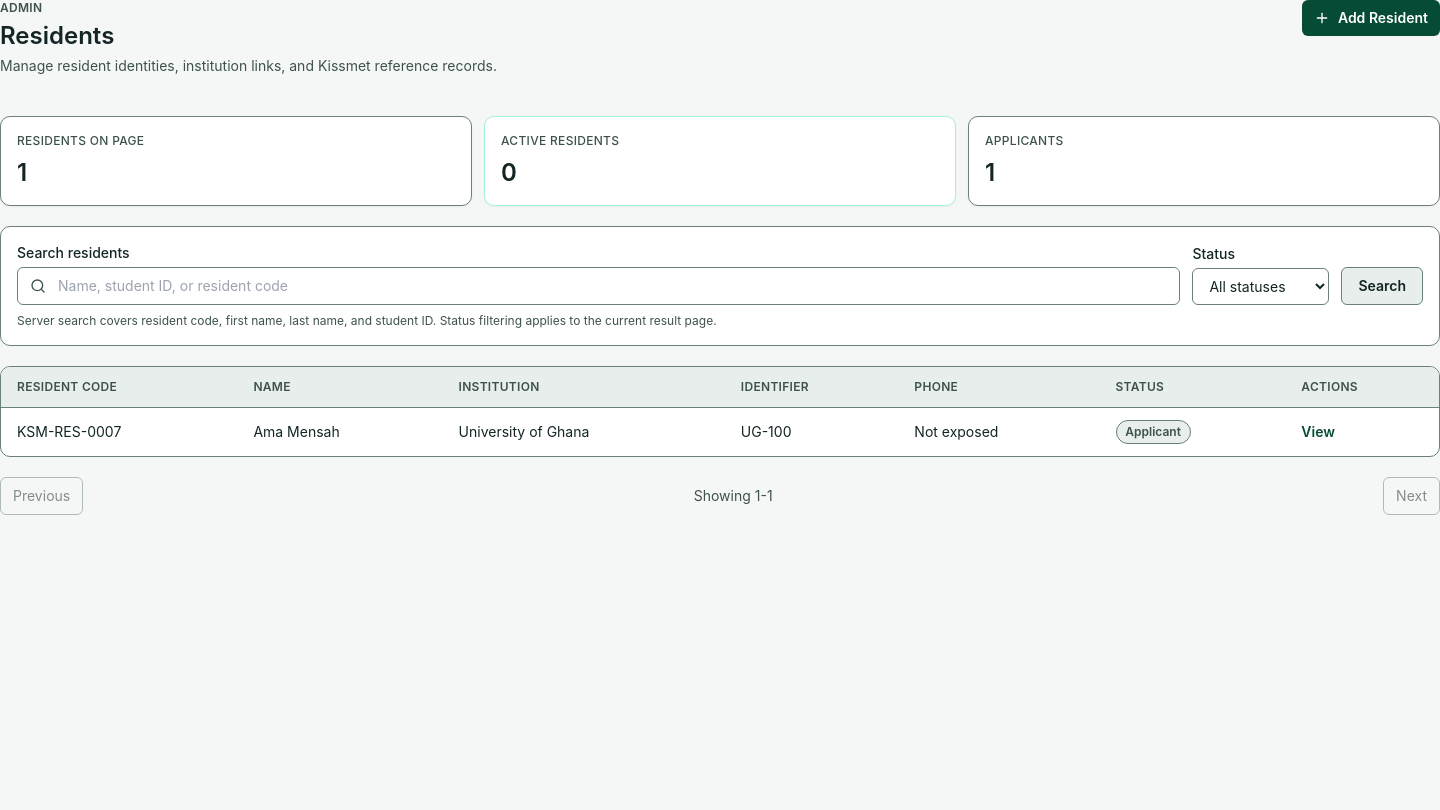
ResidentsPage › gender correction › refuses to submit without a reason or with the already-recorded value
Click the button "View" at x=1318, y=432, box [1301,422,1335,442]
(page scrolled)
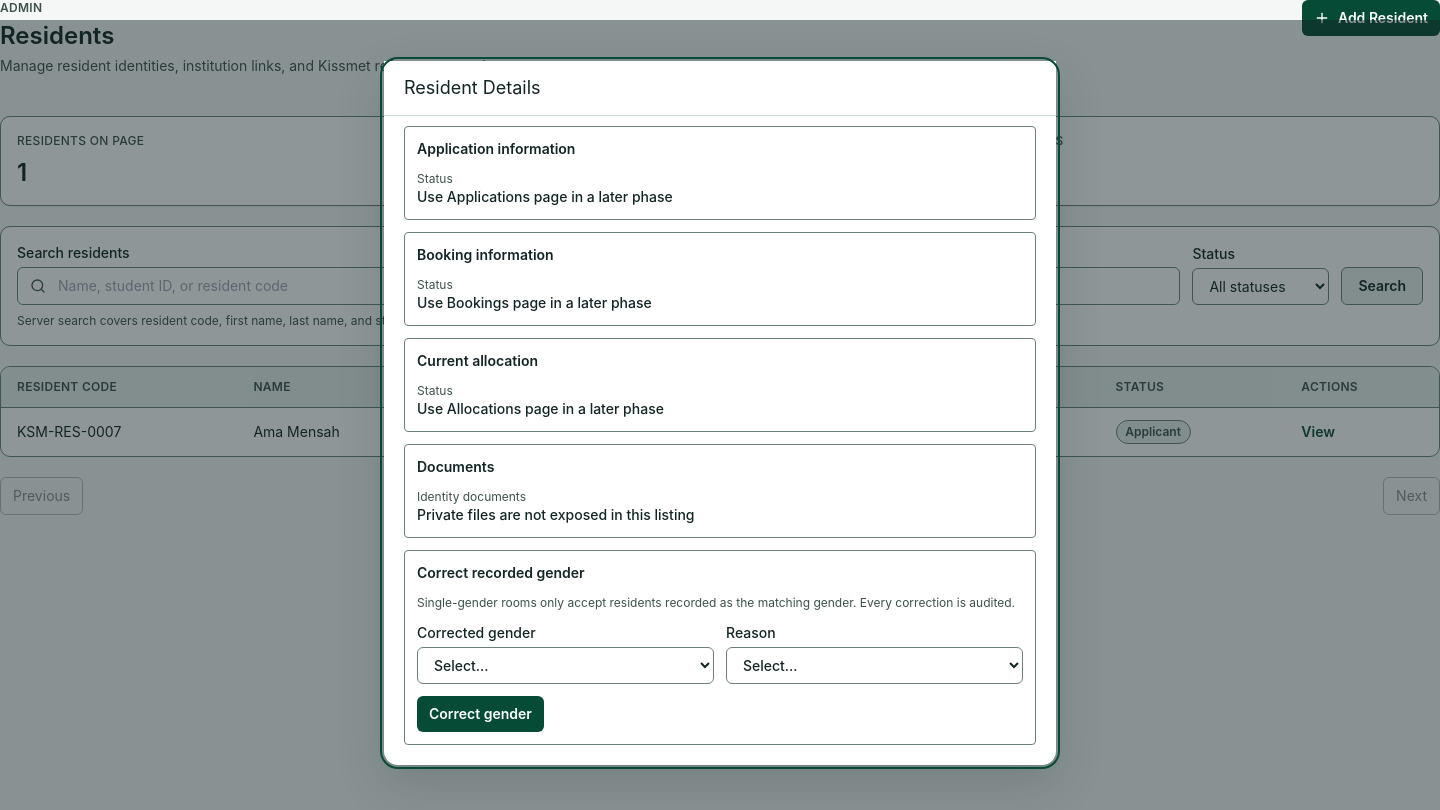
expect the form named "correct gender" is shown: met, box [404,550,1036,745]
Click the button "Correct gender" at x=480, y=714, box [417,696,544,732]
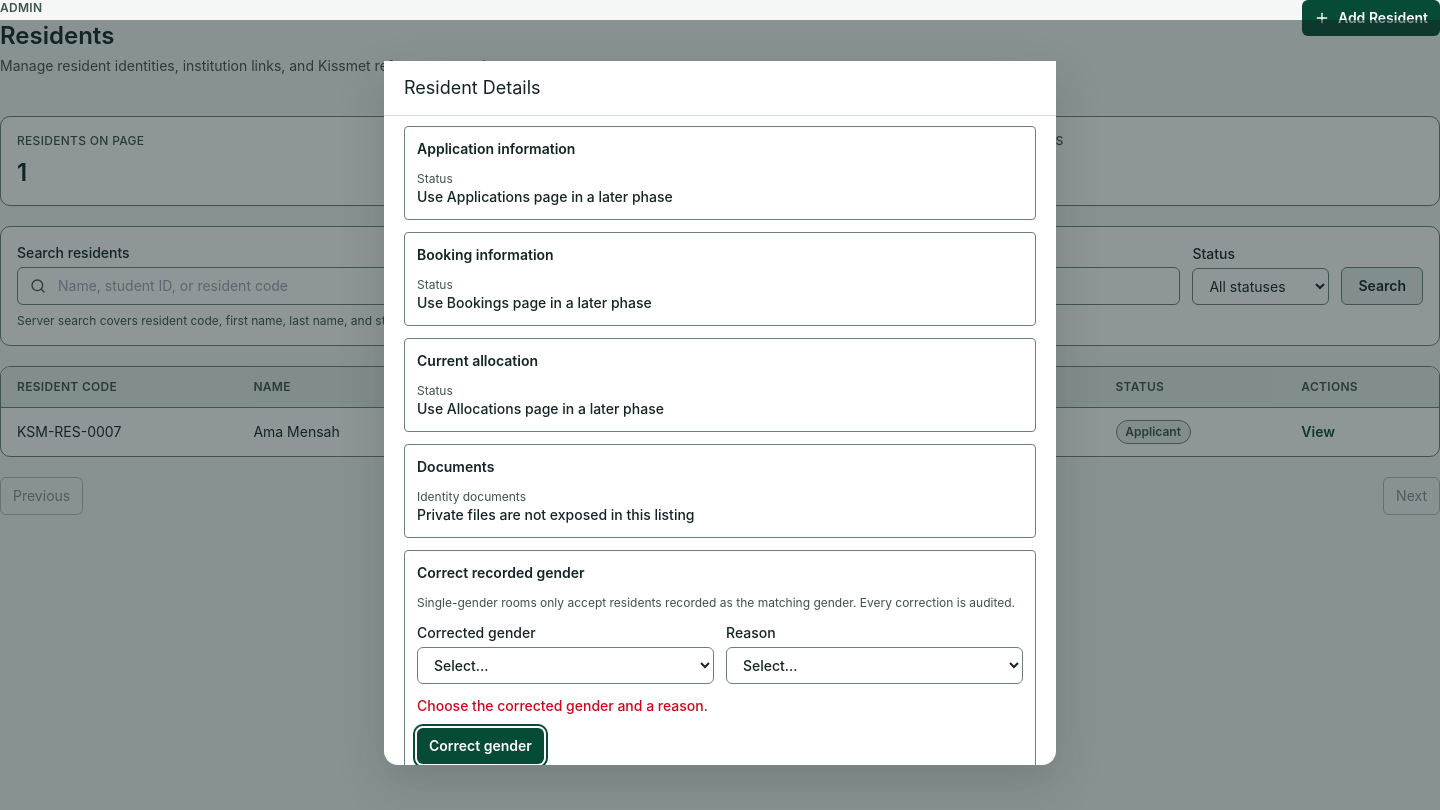
expect the text "Choose the corrected gender and a reason." is shown: met, box [417,697,708,714]
Select "Female" in the dropdown labelled "Corrected gender" at x=566, y=666, box [417,647,714,684]
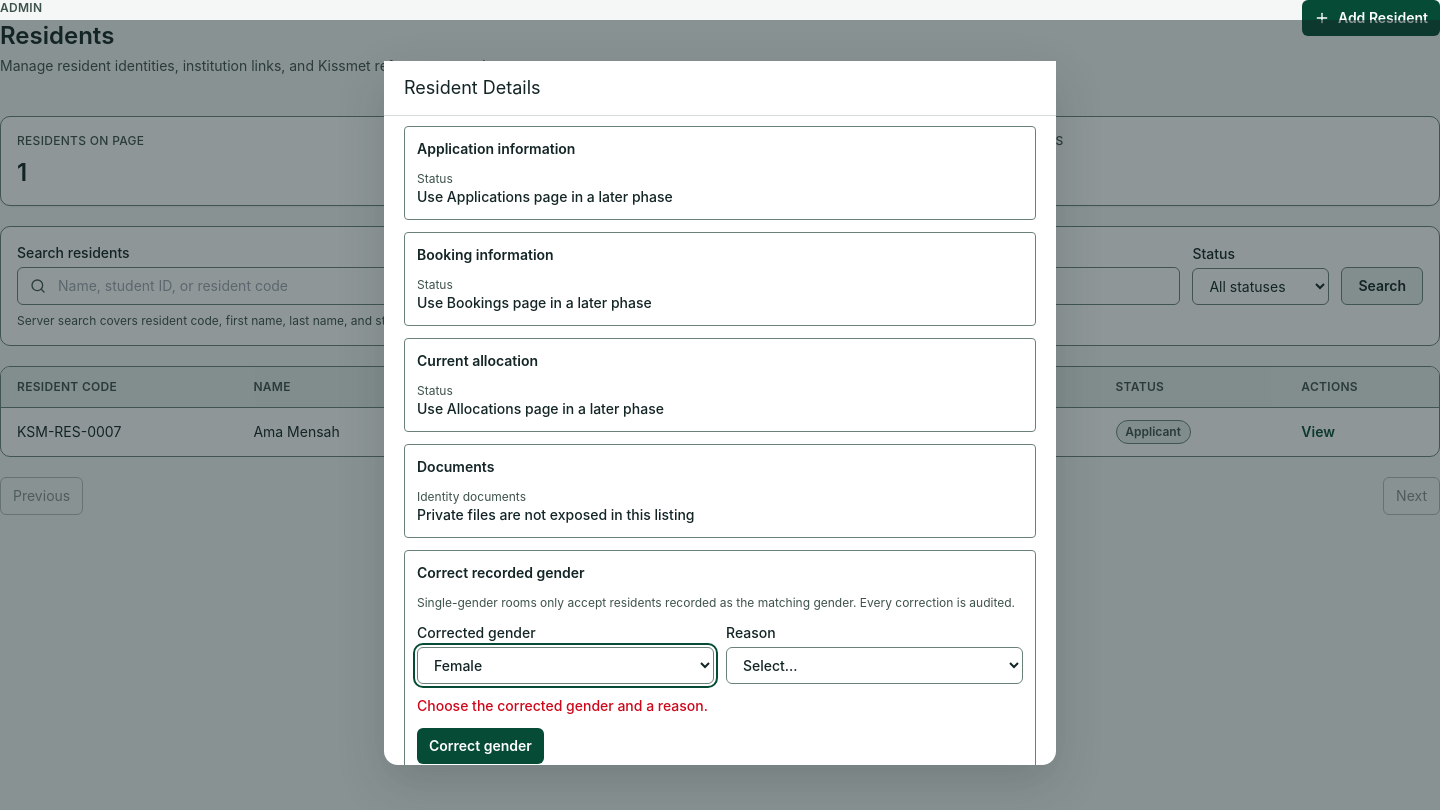
Select "Data entry error" in the dropdown named "Correction reason" at x=874, y=666, box [726,647,1023,684]
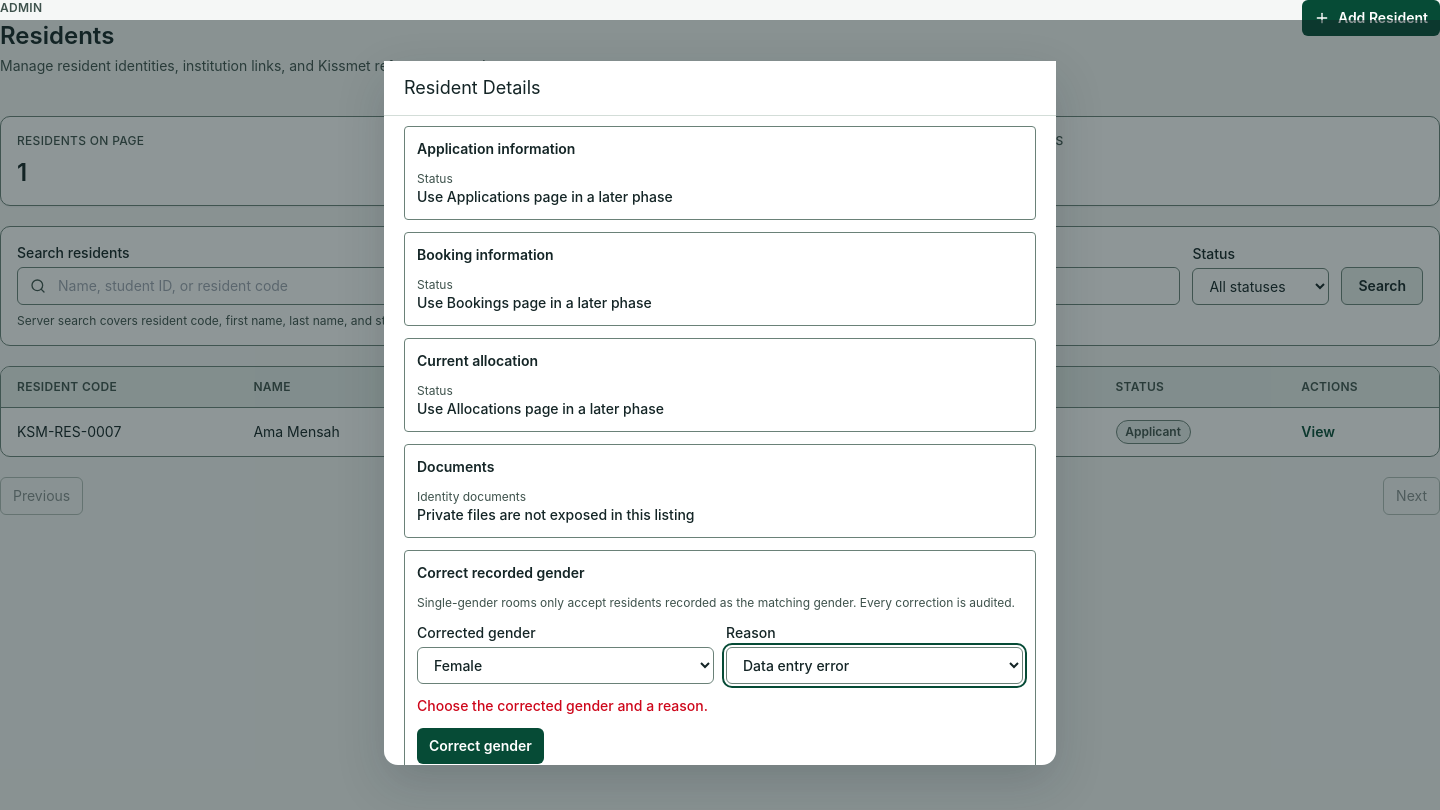
Click the button "Correct gender" at x=480, y=746, box [417,728,544,764]
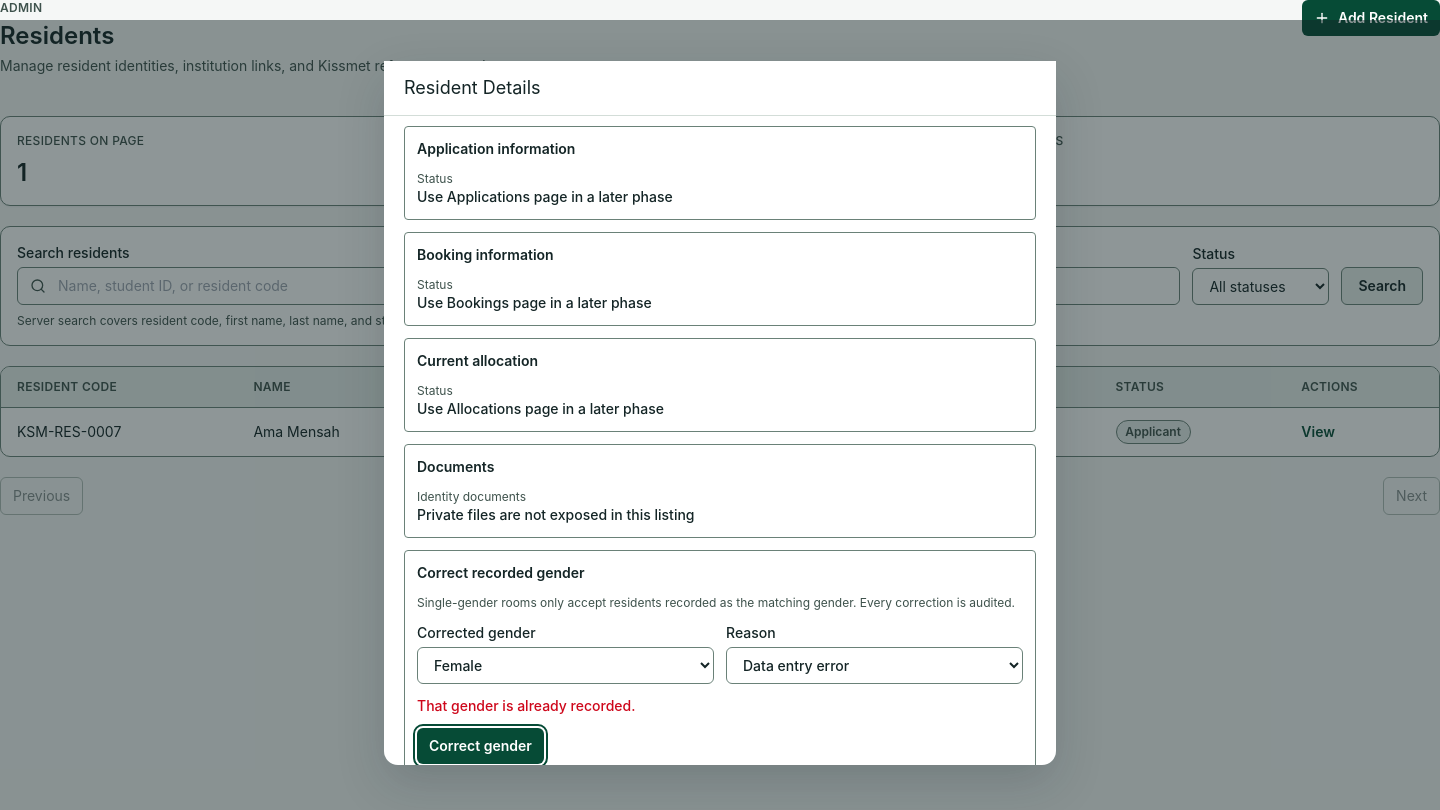
expect the text "That gender is already recorded." is shown: met, box [417,697,636,714]
